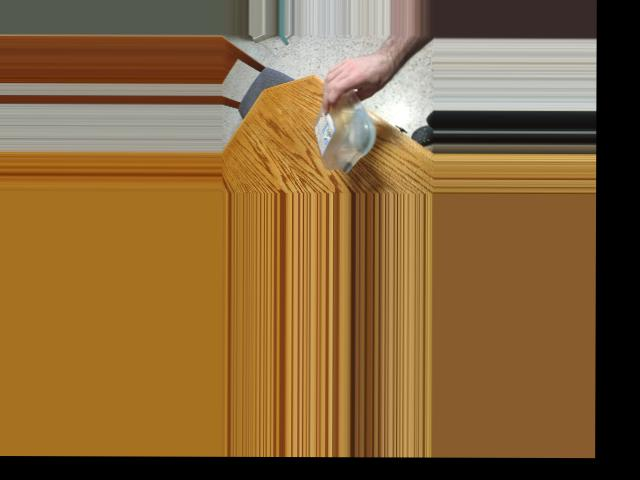cheese: (316, 76, 368, 167)
